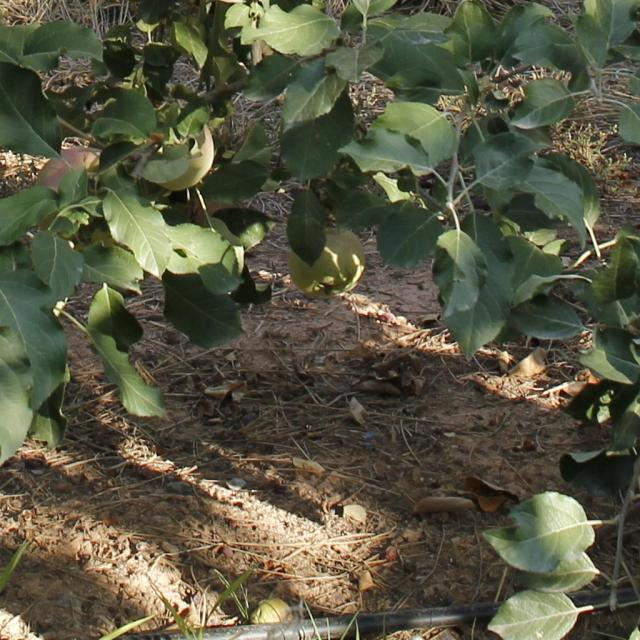100-_ripeness: (35, 146, 111, 240), (288, 230, 366, 296), (159, 126, 214, 190)
